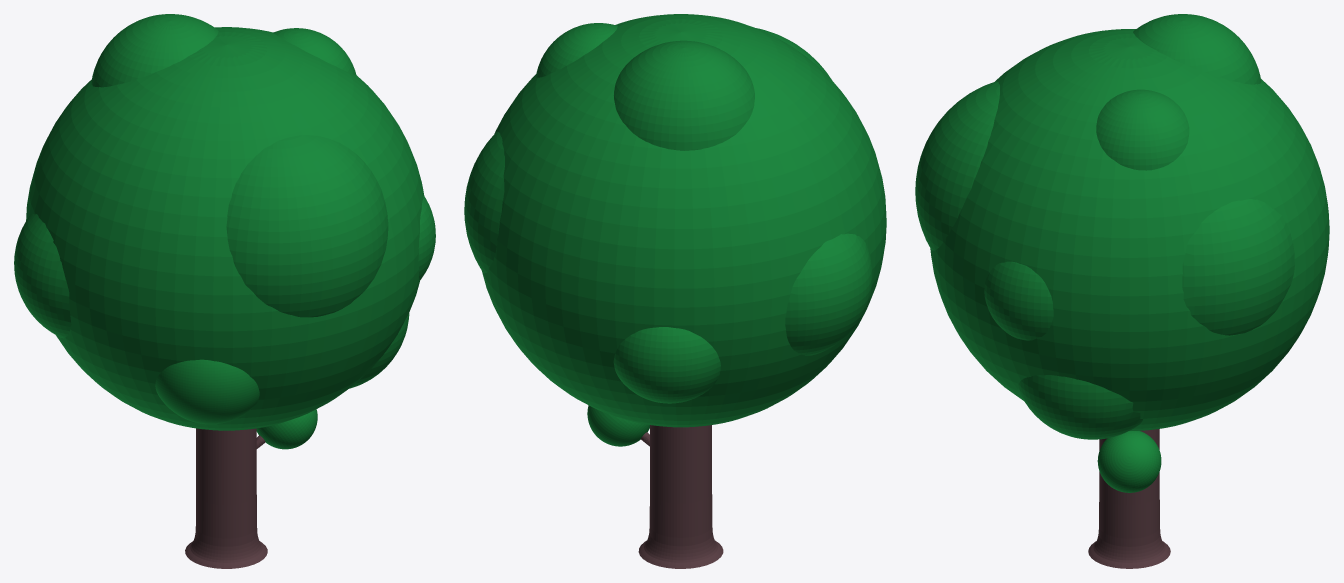
The model's file is tree_2.fbx.
3 views of the same model, side by side, from view 1: azimuth 30°, elevation 25°; view 2: azimuth 150°, elevation 25°; view 3: azimuth 270°, elevation 25° (orthographic). The views are drawn at different scales.
Parts seen in each view (by area): view 1: pohon bulat.001; view 2: pohon bulat.001; view 3: pohon bulat.001.
Part boxes in pixels (x1,y1,x2,y2): pohon bulat.001: [14, 14, 435, 568]; pohon bulat.001: [464, 14, 886, 568]; pohon bulat.001: [915, 14, 1329, 568].
Size of the model in its own units: 190 by 261 by 189.
